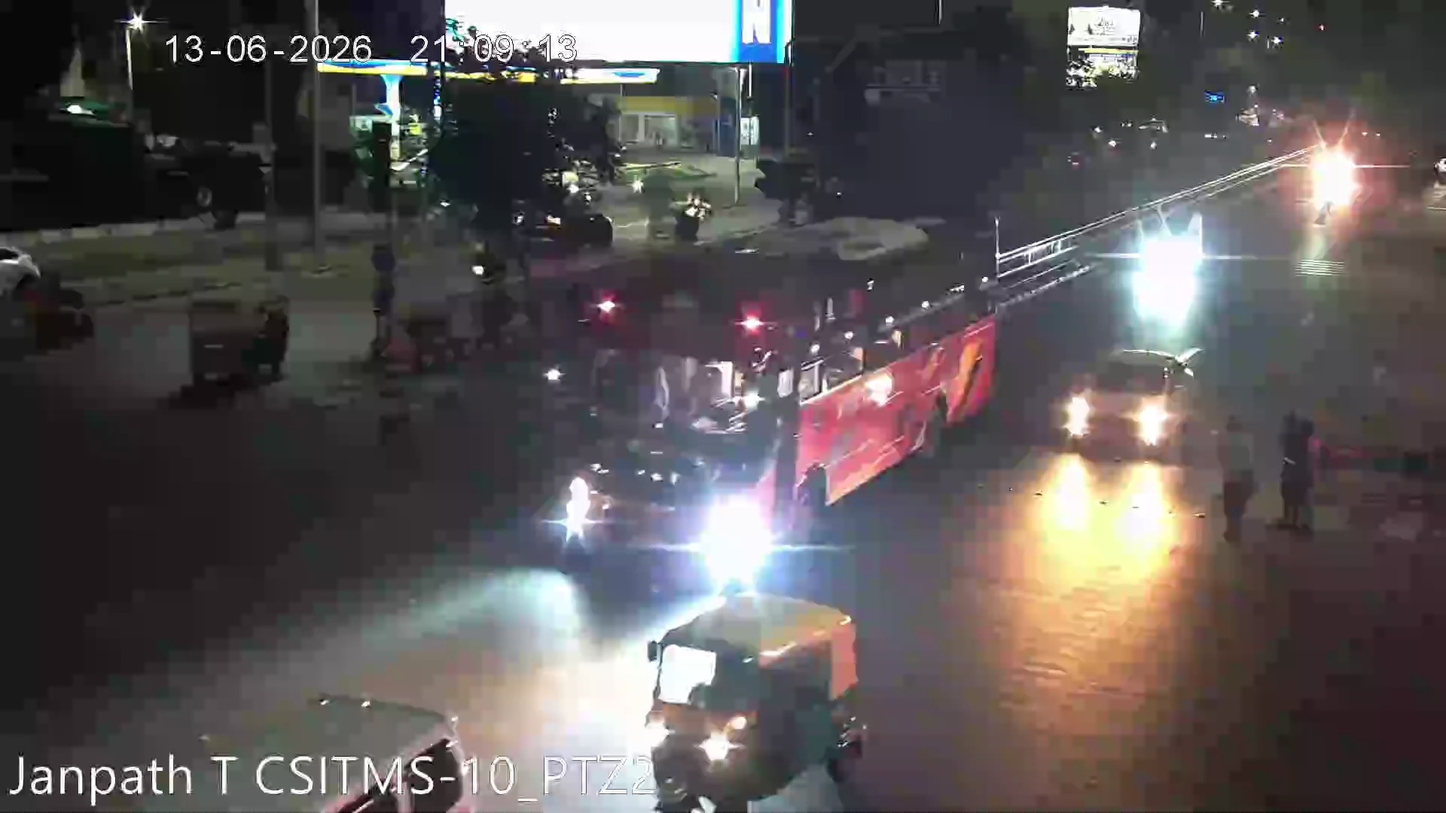auto_rickshaw: (629, 593, 879, 802)
bus: (533, 231, 1020, 571)
car: (1056, 343, 1199, 461), (1129, 188, 1210, 302), (0, 231, 49, 308)
pedestrian: (1271, 401, 1332, 538), (1213, 410, 1260, 545)
truck: (93, 275, 305, 404)
